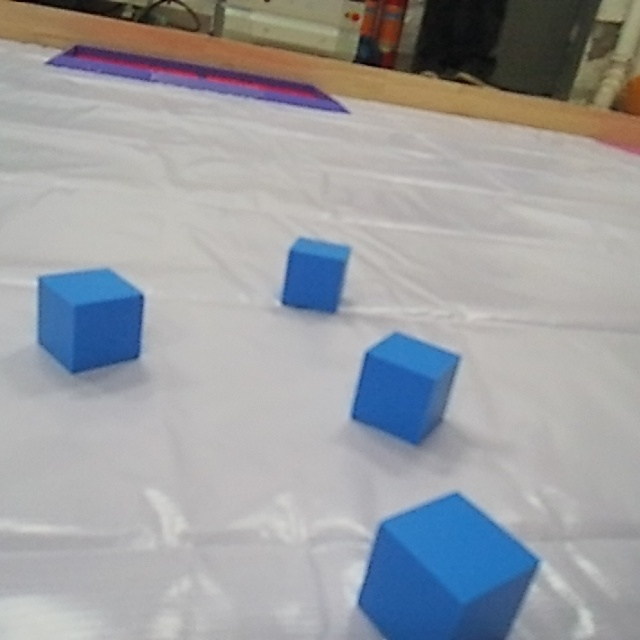blue: (348, 490, 540, 637), (343, 323, 461, 446), (26, 265, 144, 375), (280, 228, 354, 317)
